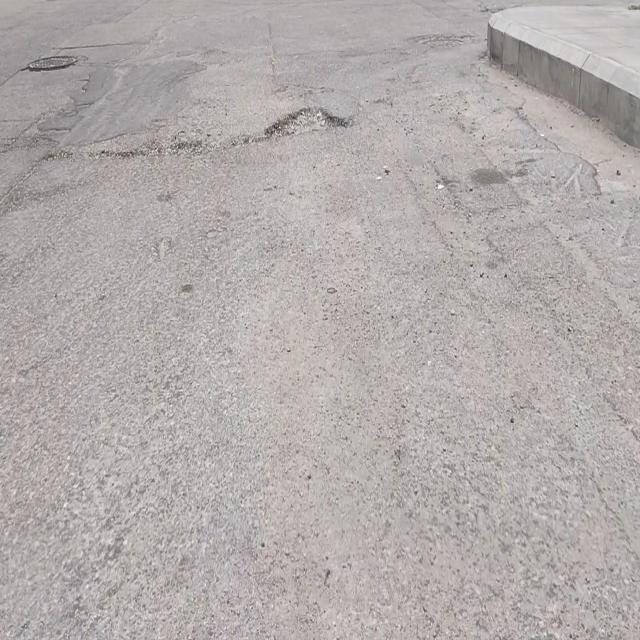Potholes: (261, 100, 351, 143)
